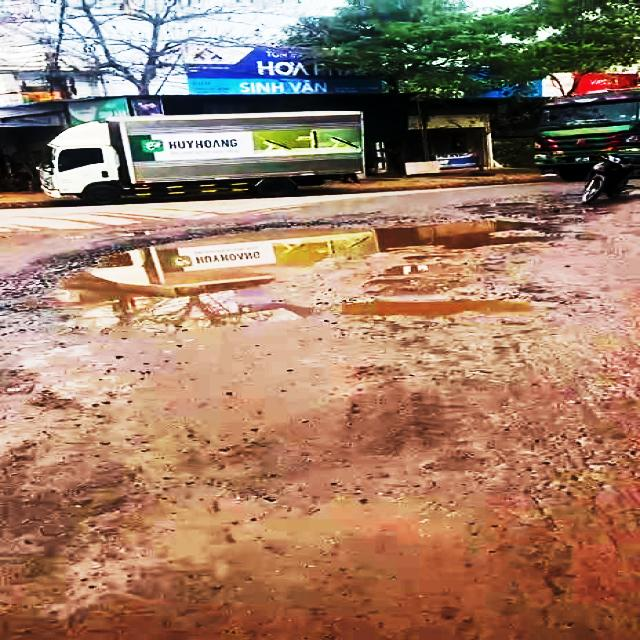pothole: (39, 214, 584, 320)
